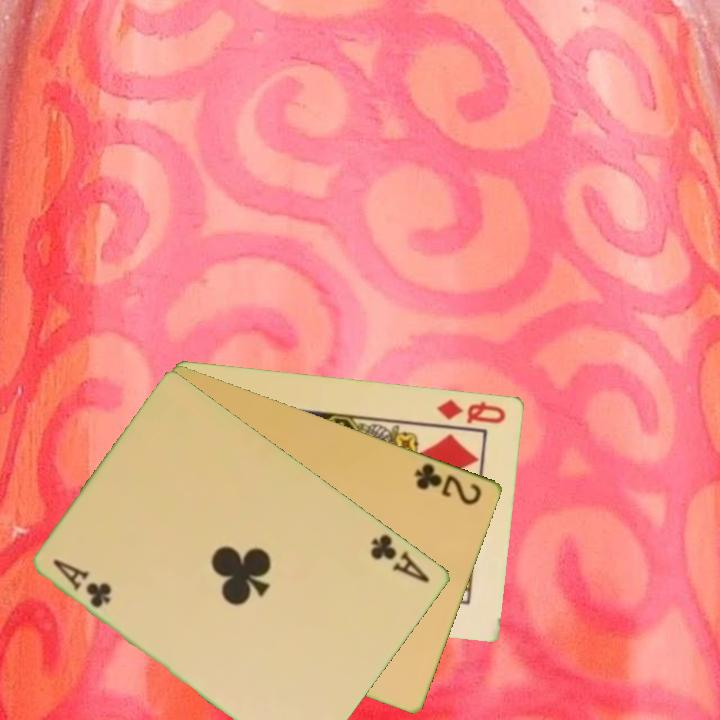2c: (411, 459, 486, 508)
Ac: (367, 530, 434, 586), (49, 555, 115, 611)
Qd: (433, 395, 509, 426)
